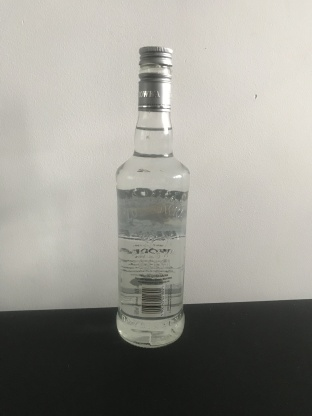nakretka: (137, 45, 174, 112)
